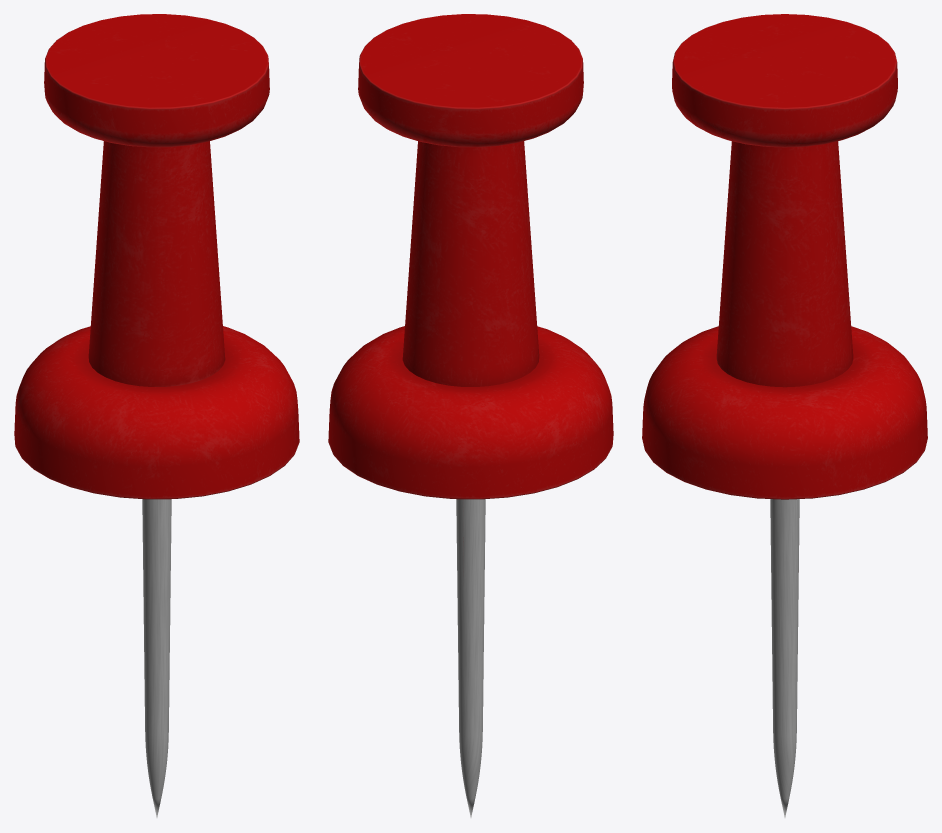
Rendered from thumbtack_STKG4R4.obj.
3 renders of one model, left to right at view 1: azimuth 30°, elevation 25°; view 2: azimuth 150°, elevation 25°; view 3: azimuth 270°, elevation 25°, orthographic.
Parts seen in each view (by area): view 1: thumbtack; view 2: thumbtack; view 3: thumbtack.
Boxes of the visible parts, box(x1,y1,x2,y2) form: thumbtack: box(14, 14, 299, 817); thumbtack: box(328, 14, 613, 817); thumbtack: box(642, 14, 927, 817).
Bounding box in the file's own units: 0.7996 × 2.34 × 0.7996.
Materials: 1 (1 with a texture image).
